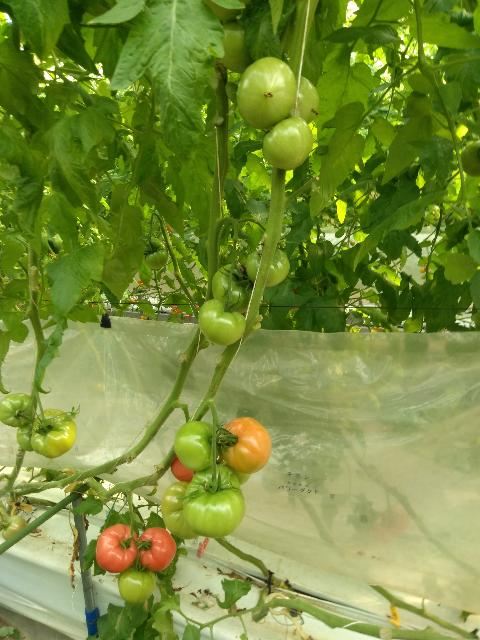b_fully_ripened: (96, 523, 138, 573), (138, 527, 176, 572), (171, 455, 201, 482)
b_green: (183, 465, 246, 539), (236, 57, 298, 130), (263, 116, 314, 170), (161, 482, 201, 540), (198, 298, 246, 346), (31, 409, 77, 459), (174, 421, 219, 471), (212, 264, 254, 314), (219, 20, 256, 74), (284, 75, 320, 125), (246, 248, 290, 287), (118, 564, 156, 604), (0, 393, 35, 428), (143, 237, 168, 271), (17, 418, 36, 452), (2, 515, 27, 540)
b_half_ripened: (219, 417, 272, 474)
